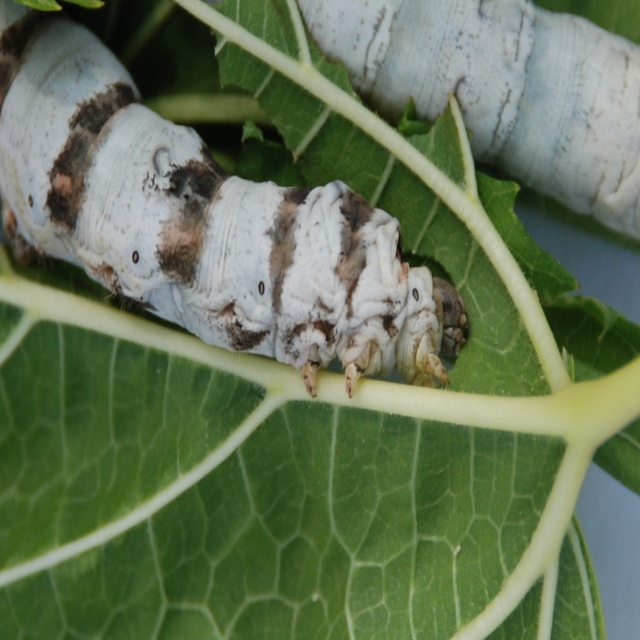Caterpillar: (0, 0, 469, 400)
